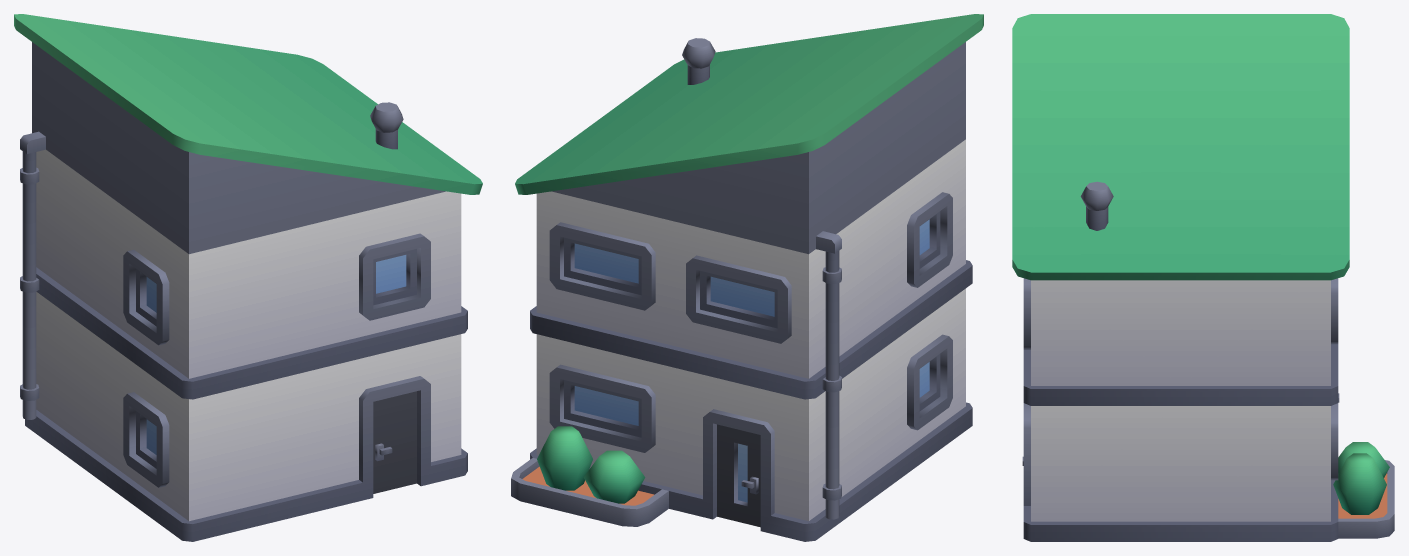
Rendered from house_suburb_k.glb.
3 renders of one model, left to right at view 1: azimuth 30°, elevation 25°; view 2: azimuth 150°, elevation 25°; view 3: azimuth 270°, elevation 25°, orthographic. The views are drawn at different scales.
Parts seen in each view (by area): view 1: building-type-k; view 2: building-type-k; view 3: building-type-k.
Part boxes in pixels (bbox=[...]): building-type-k: bbox=[14, 14, 482, 541]; building-type-k: bbox=[511, 14, 983, 541]; building-type-k: bbox=[1012, 14, 1394, 541].
Bounding box in the file's own units: 0.921 × 1.15 × 1.02.
Materials: 1 (1 with a texture image).
